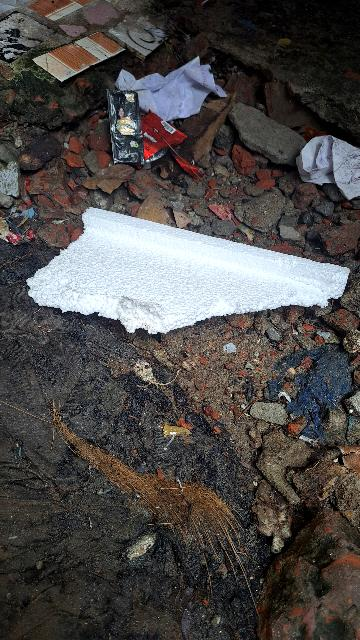cocksheet: (21, 174, 360, 358)
